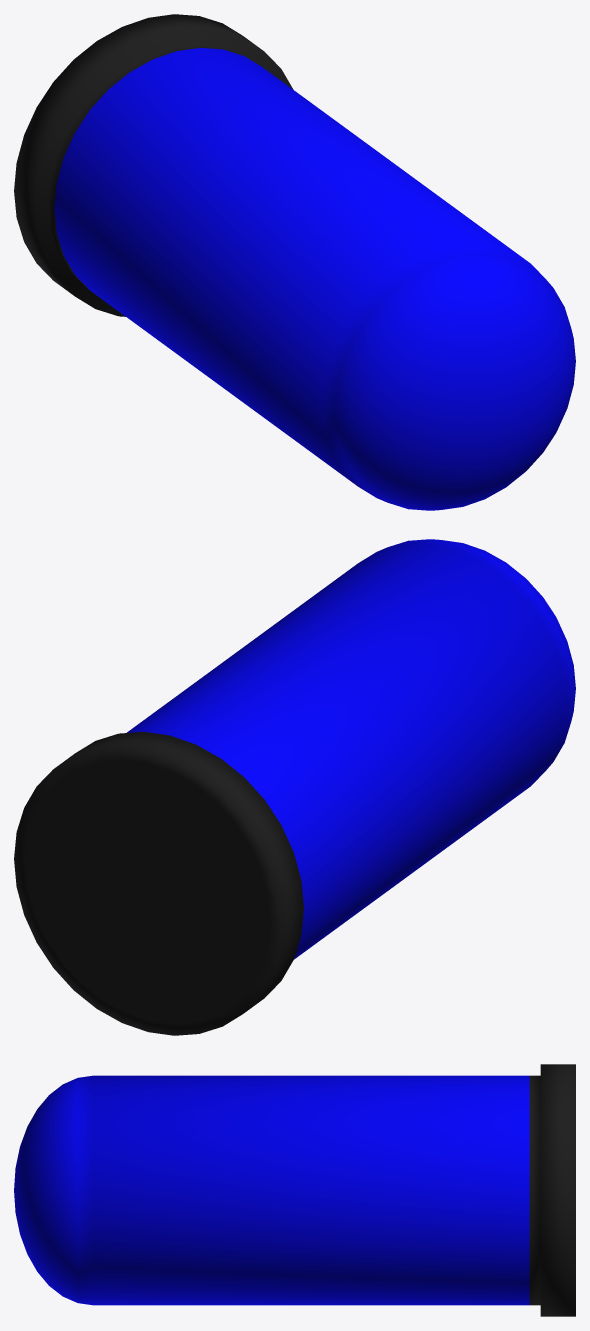
File: mavi_duba.obj
3 views of the same model, one above another, from view 1: azimuth 30°, elevation 25°; view 2: azimuth 150°, elevation 25°; view 3: azimuth 270°, elevation 25° (orthographic). The views are drawn at different scales.
Parts seen in each view (by area): view 1: Sphere.022; view 2: Sphere.022; view 3: Sphere.022.
Boxes of the visible parts, x1,y1,x2,y2 form: Sphere.022: (14, 14, 575, 510); Sphere.022: (14, 539, 575, 1035); Sphere.022: (14, 1064, 575, 1316).
Size of the model in its own units: 0.494 by 0.494 by 1.1.
